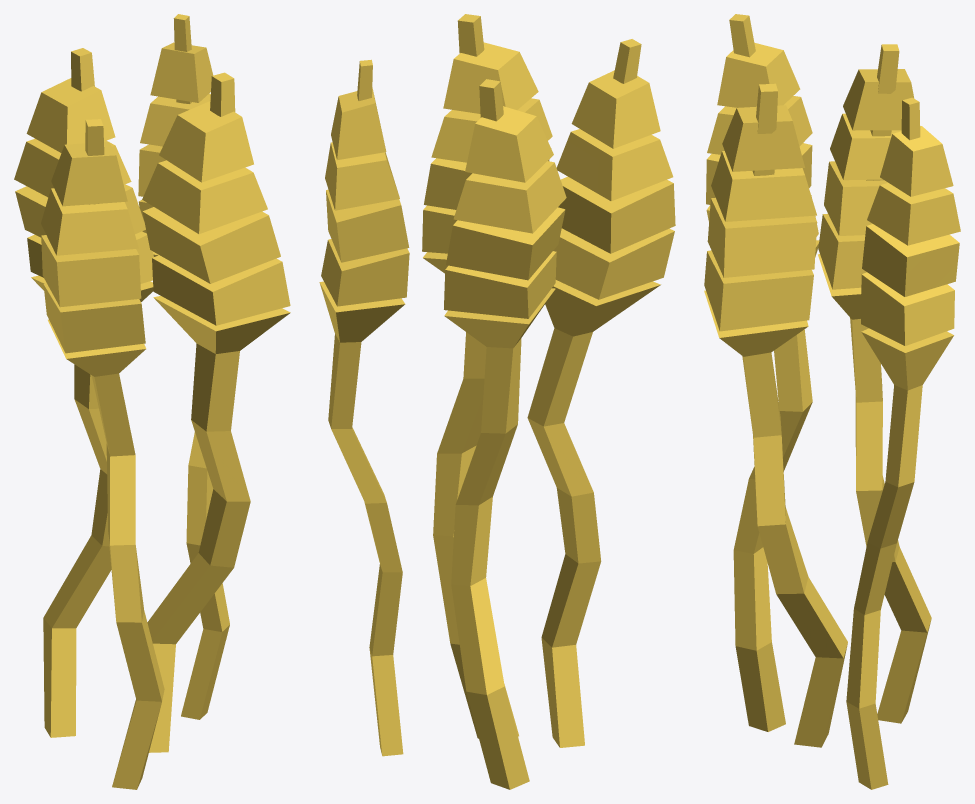
Rendered from Wheat.glb.
3 renders of one model, left to right at view 1: azimuth 30°, elevation 25°; view 2: azimuth 150°, elevation 25°; view 3: azimuth 270°, elevation 25°, orthographic. The views are drawn at different scales.
Visible parts, largest first — view 1: Cube.037_Wheat_0.6019, Cube.037_Wheat_0.6013, Cube.037_Wheat_0.6072, Cube.037_Wheat_0.6024, Cube.037_Wheat_0.6066, Cube.037_Wheat_0.6148, Cube.037_Wheat_0.6030, Cube.037_Wheat_0.6081, Cube.037_Wheat_0.6079, Cube.037_Wheat_0.6043, Cube.037_Wheat_0.6040, Cube.037_Wheat_0.6083 (+54 smaller); view 2: Cube.037_Wheat_0.6129, Cube.037_Wheat_0.6123, Cube.037_Wheat_0.6134, Cube.037_Wheat_0.5960, Cube.037_Wheat_0.5954, Cube.037_Wheat_0.6016, Cube.037_Wheat_0.6036, Cube.037_Wheat_0.6010, Cube.037_Wheat_0.6140, Cube.037_Wheat_0.5969, Cube.037_Wheat_0.6025, Cube.037_Wheat_0.6023 (+60 smaller); view 3: Cube.037_Wheat_0.6075, Cube.037_Wheat_0.6069, Cube.037_Wheat_0.6080, Cube.037_Wheat_0.6086, Cube.037_Wheat_0.6099, Cube.037_Wheat_0.6096, Cube.037_Wheat_0.6152, Cube.037_Wheat_0.6055, Cube.037_Wheat_0.6155, Cube.037_Wheat_0.6142, Cube.037_Wheat_0.6045, Cube.037_Wheat_0.5962 (+65 smaller).
Part boxes in pixels (x1,y1,x2,y2): Cube.037_Wheat_0.6019: [57, 255, 141, 307]; Cube.037_Wheat_0.6013: [60, 303, 145, 353]; Cube.037_Wheat_0.6072: [200, 215, 280, 283]; Cube.037_Wheat_0.6024: [56, 209, 138, 255]; Cube.037_Wheat_0.6066: [212, 262, 290, 325]; Cube.037_Wheat_0.6148: [50, 628, 76, 737]; Cube.037_Wheat_0.6030: [62, 155, 127, 206]; Cube.037_Wheat_0.6081: [199, 172, 267, 234]; Cube.037_Wheat_0.6079: [142, 163, 200, 233]; Cube.037_Wheat_0.6043: [110, 455, 135, 545]; Cube.037_Wheat_0.6040: [112, 700, 161, 789]; Cube.037_Wheat_0.6083: [201, 117, 253, 182]; Cube.037_Wheat_0.6129: [446, 225, 532, 280]; Cube.037_Wheat_0.6123: [444, 270, 528, 318]; Cube.037_Wheat_0.6134: [453, 180, 532, 233]; Cube.037_Wheat_0.5960: [336, 205, 409, 262]; Cube.037_Wheat_0.5954: [337, 253, 409, 306]; Cube.037_Wheat_0.6016: [610, 183, 675, 253]; Cube.037_Wheat_0.6036: [552, 645, 584, 747]; Cube.037_Wheat_0.6010: [599, 231, 674, 299]; Cube.037_Wheat_0.6140: [465, 123, 525, 182]; Cube.037_Wheat_0.5969: [335, 160, 399, 210]; Cube.037_Wheat_0.6025: [611, 139, 673, 201]; Cube.037_Wheat_0.6023: [556, 132, 612, 200]; Cube.037_Wheat_0.6075: [724, 222, 817, 277]; Cube.037_Wheat_0.6069: [720, 275, 813, 331]; Cube.037_Wheat_0.6080: [725, 175, 816, 221]; Cube.037_Wheat_0.6086: [732, 121, 804, 171]; Cube.037_Wheat_0.6099: [753, 435, 785, 526]; Cube.037_Wheat_0.6096: [794, 657, 843, 747]; Cube.037_Wheat_0.6152: [877, 630, 926, 723]; Cube.037_Wheat_0.6055: [743, 352, 781, 437]; Cube.037_Wheat_0.6155: [856, 401, 882, 490]; Cube.037_Wheat_0.6142: [852, 82, 914, 130]; Cube.037_Wheat_0.6045: [733, 550, 756, 650]; Cube.037_Wheat_0.5962: [904, 243, 959, 296].
Size of the model in its own units: 11.3 by 28.31 by 9.6.
